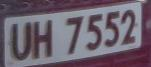2: (120, 6, 138, 50)
5: (84, 10, 106, 54), (103, 8, 123, 52)
7: (61, 12, 86, 59)
H: (31, 17, 55, 62)
U: (8, 19, 32, 66)
